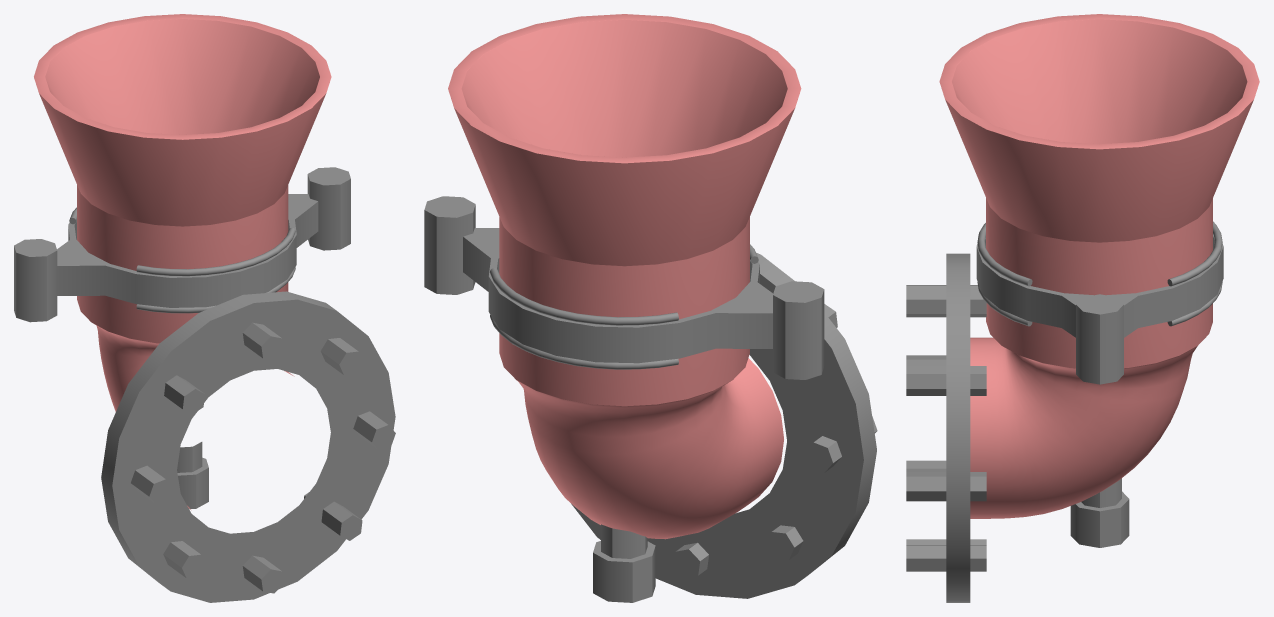
File: SM_Sliv_All_Golovka.gltf
The picture shows the model from 3 angles, left to right: view 1: azimuth 30°, elevation 25°; view 2: azimuth 150°, elevation 25°; view 3: azimuth 270°, elevation 25°; orthographic projection. The views are drawn at different scales.
Parts seen in each view (by area): view 1: SM_Sliv_All_Golovka; view 2: SM_Sliv_All_Golovka; view 3: SM_Sliv_All_Golovka.
Part boxes in pixels (x1,y1,x2,y2): SM_Sliv_All_Golovka: (14, 14, 395, 602); SM_Sliv_All_Golovka: (424, 14, 877, 602); SM_Sliv_All_Golovka: (906, 14, 1259, 602).
Bounding box in the file's own units: 0.2854 × 0.386 × 0.2443.
